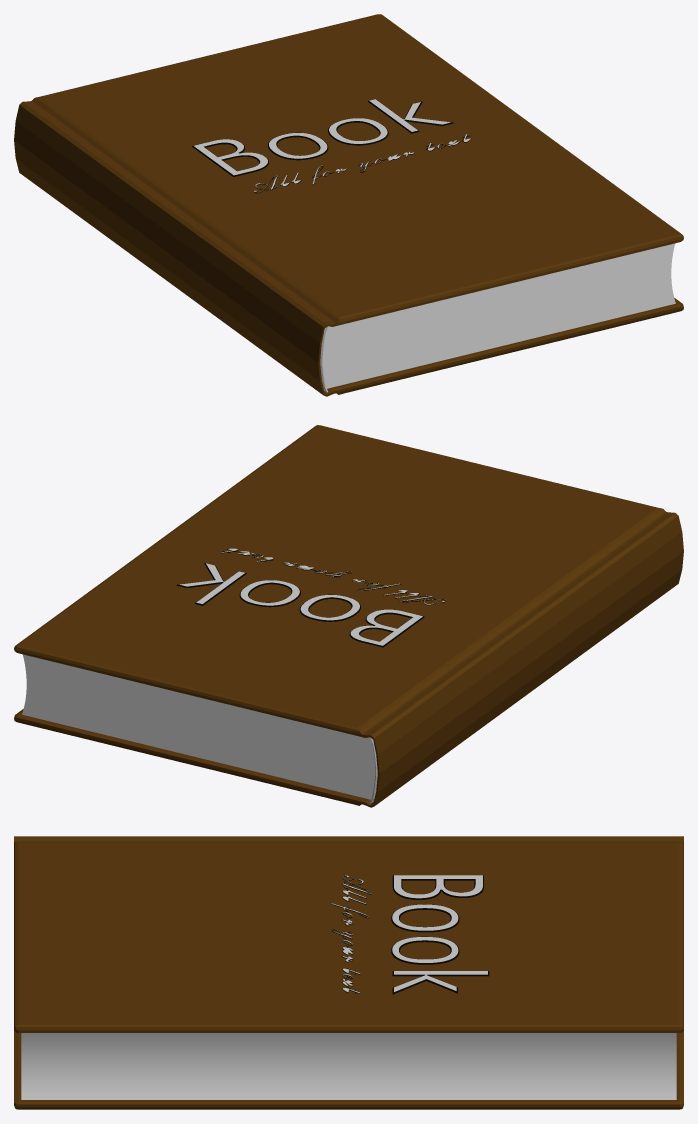
The model's file is Book-for you.fbx.
3 renders of one model, top to bottom at view 1: azimuth 30°, elevation 25°; view 2: azimuth 150°, elevation 25°; view 3: azimuth 270°, elevation 25°, orthographic. The views are drawn at different scales.
Parts seen in each view (by area): view 1: Cover, Paper, B, k, o, o_2; view 2: Cover, Paper, B, k, o_2, o; view 3: Cover, Paper, B, k, o_2, o.
Boxes of the visible parts, x1,y1,x2,y2 form: Cover: [14, 14, 683, 396]; Paper: [322, 243, 675, 388]; B: [192, 139, 268, 176]; k: [367, 99, 453, 133]; o: [268, 132, 328, 160]; o_2: [328, 118, 388, 145]; Cover: [14, 425, 683, 807]; Paper: [22, 654, 375, 799]; B: [349, 609, 424, 647]; k: [176, 563, 246, 605]; o_2: [239, 580, 300, 607]; o: [299, 594, 360, 621]; Cover: [14, 836, 683, 1109]; Paper: [21, 1033, 676, 1099]; B: [392, 875, 483, 899]; k: [392, 971, 489, 994]; o_2: [391, 936, 459, 964]; o: [391, 904, 459, 932].
Bounding box in the file's own units: 16.5 × 3.35 × 23.7.
